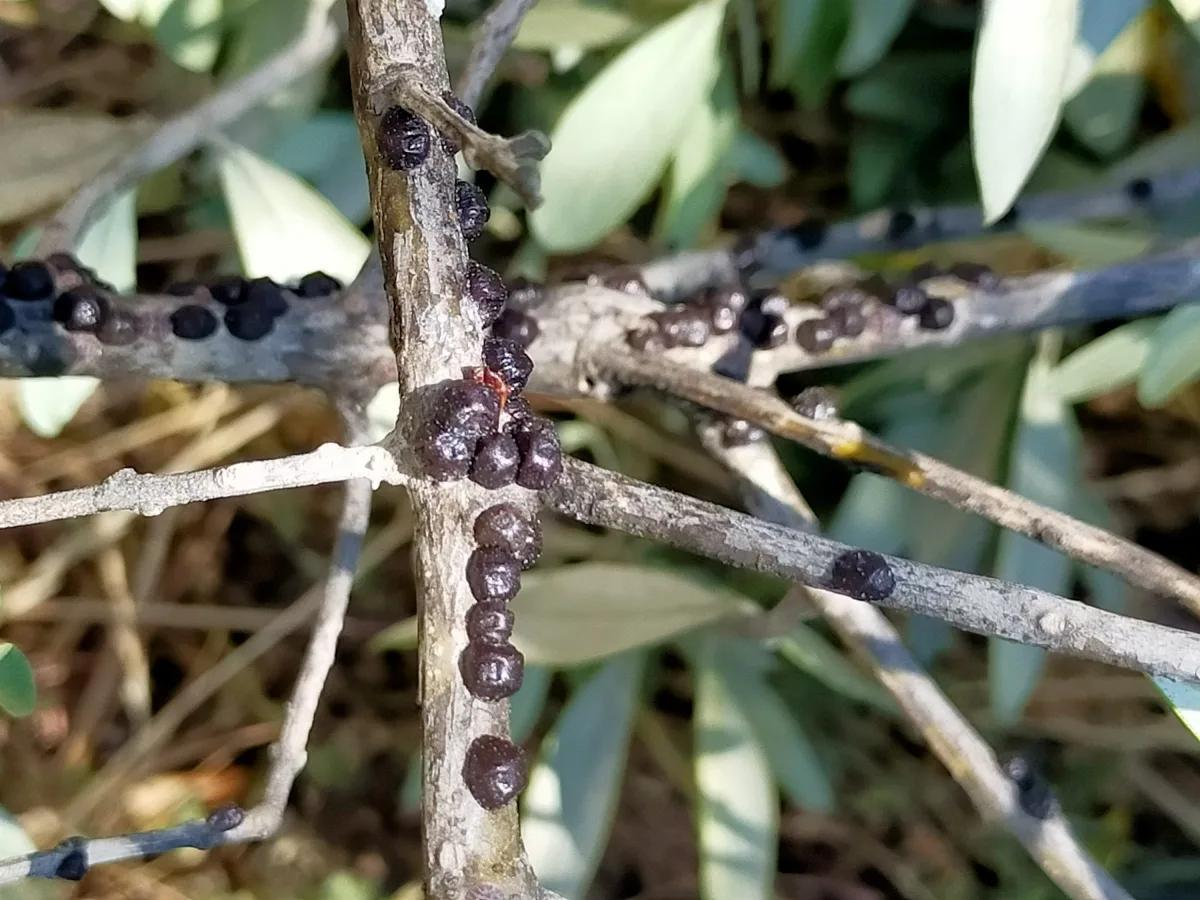BlackScale: (372, 222, 586, 823), (596, 261, 982, 386), (0, 237, 358, 365), (366, 88, 442, 187), (822, 534, 903, 614)
